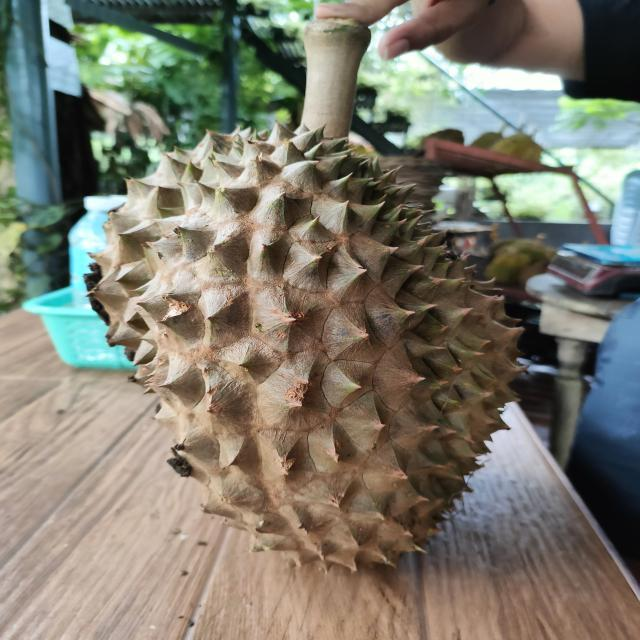mature: (88, 125, 522, 569)
